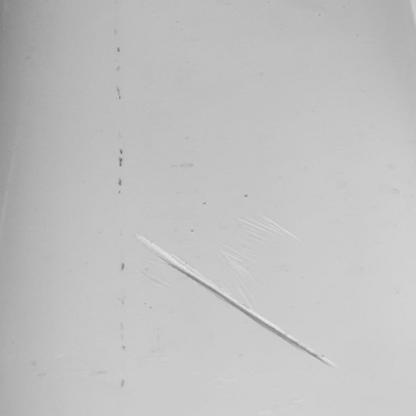sunshang: (139, 233, 332, 364)
